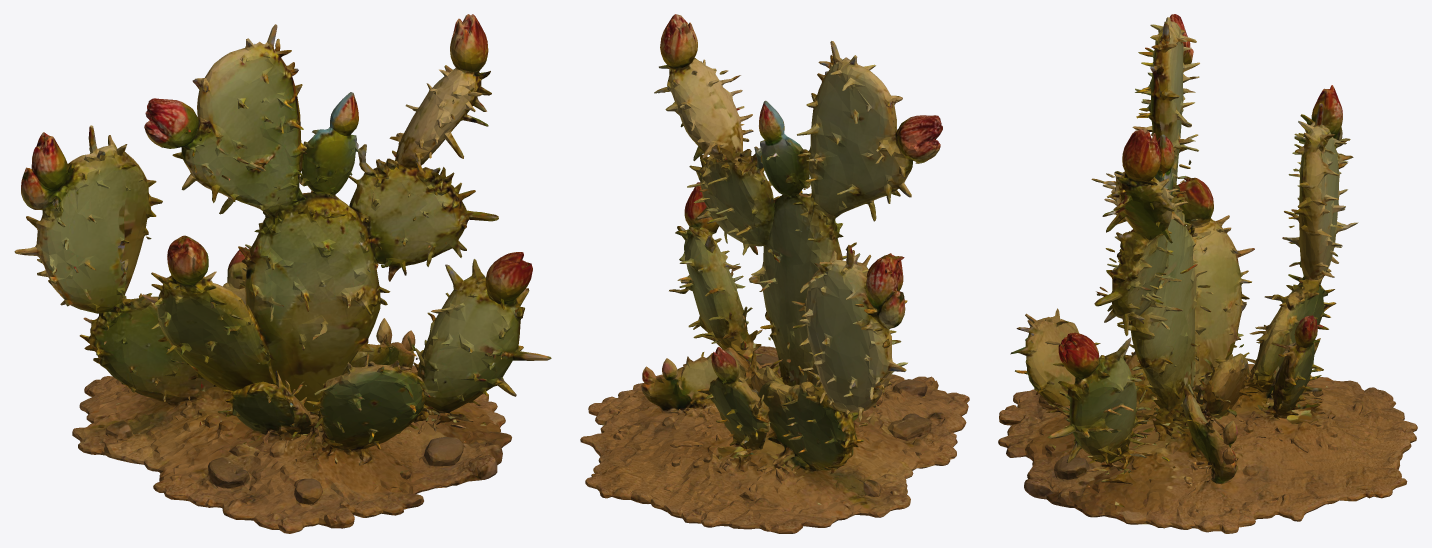
The model's file is desert-cactus-bush-1.glb.
3 views of the same model, side by side, from view 1: azimuth 30°, elevation 25°; view 2: azimuth 150°, elevation 25°; view 3: azimuth 270°, elevation 25° (orthographic). The views are drawn at different scales.
Parts seen in each view (by area): view 1: textured_mesh.obj; view 2: textured_mesh.obj; view 3: textured_mesh.obj.
Part boxes in pixels (box(x1,y1,x2,y2)): textured_mesh.obj: box(14, 14, 551, 533); textured_mesh.obj: box(580, 14, 969, 533); textured_mesh.obj: box(998, 14, 1417, 533).
Bounding box in the file's own units: 1.81 × 1.87 × 1.75.
1 material, 1 textured.
